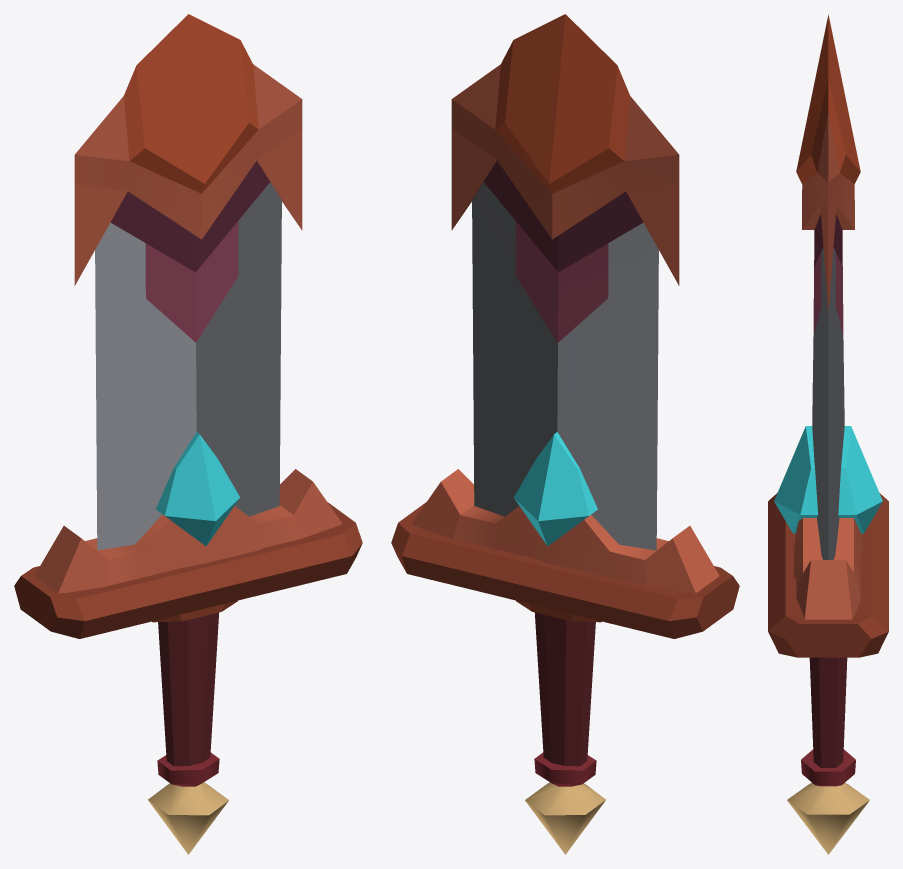
Rendered from Sword_LHand_25.fbx.
3 views of the same model, side by side, from view 1: azimuth 30°, elevation 25°; view 2: azimuth 150°, elevation 25°; view 3: azimuth 270°, elevation 25° (orthographic).
Visible parts, largest first — view 1: Sword_LHand_25; view 2: Sword_LHand_25; view 3: Sword_LHand_25.
Boxes of the visible parts, x1=… form: Sword_LHand_25: x1=14, y1=14, x2=362, y2=854; Sword_LHand_25: x1=391, y1=14, x2=739, y2=854; Sword_LHand_25: x1=768, y1=14, x2=888, y2=854.
Size of the model in its own units: 41.64 by 110 by 14.26.
